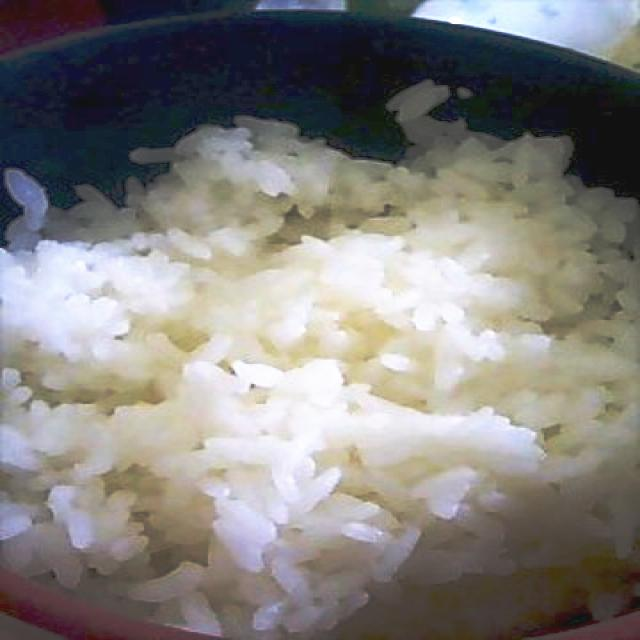rice: (0, 78, 640, 640)
